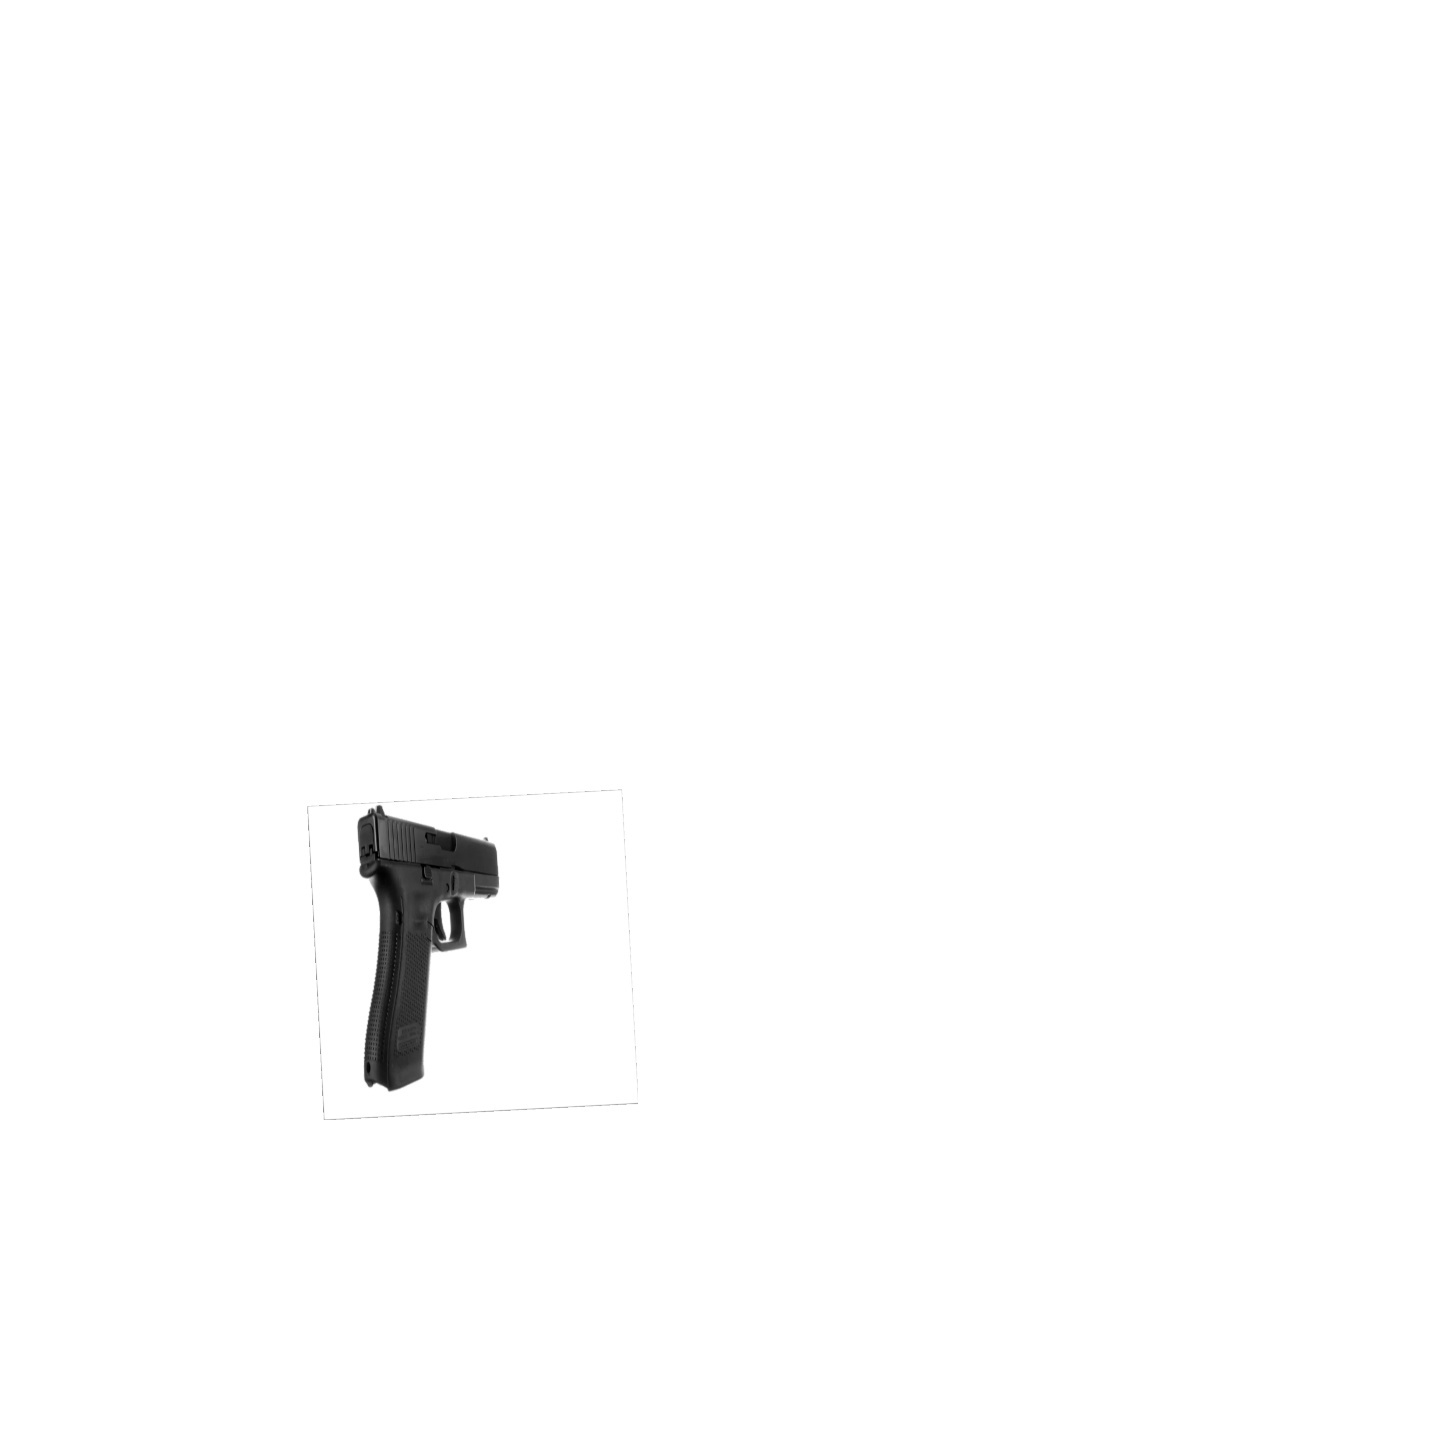gun: (356, 805, 498, 1089)
